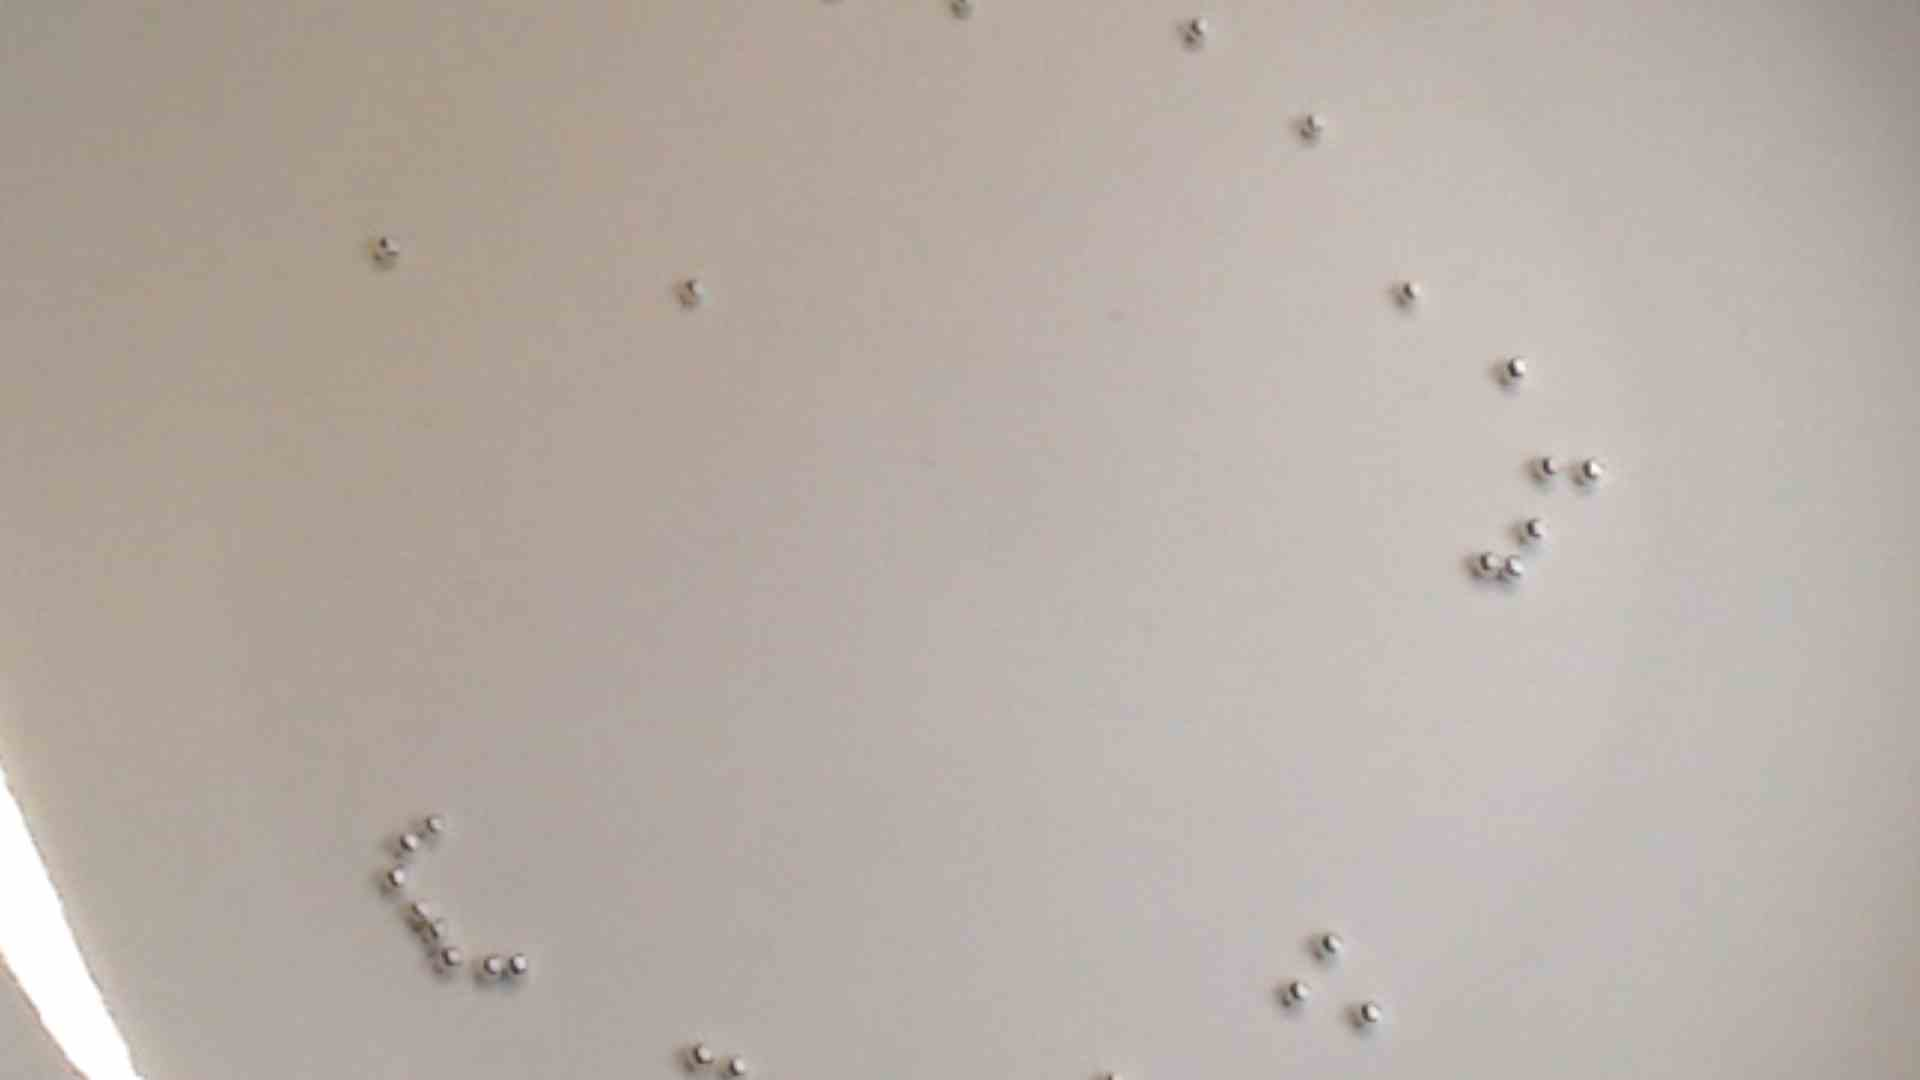chocolate: (1291, 103, 1336, 146), (673, 269, 717, 309), (429, 942, 471, 978), (1573, 452, 1611, 492), (368, 227, 404, 269), (1315, 924, 1352, 964), (417, 806, 458, 841), (1391, 276, 1429, 313), (1499, 349, 1538, 386), (1530, 446, 1568, 483), (1468, 545, 1505, 583), (373, 860, 409, 899), (1180, 13, 1217, 50), (1519, 509, 1553, 546), (1280, 976, 1313, 1011), (1499, 549, 1534, 582), (1356, 996, 1389, 1030), (684, 1036, 717, 1071), (504, 944, 537, 978), (390, 825, 425, 858), (404, 899, 438, 931), (483, 949, 512, 985), (943, 1, 982, 26), (429, 916, 462, 945), (723, 1052, 753, 1080)
